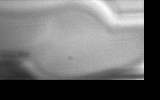cell: (17, 14, 104, 90)
